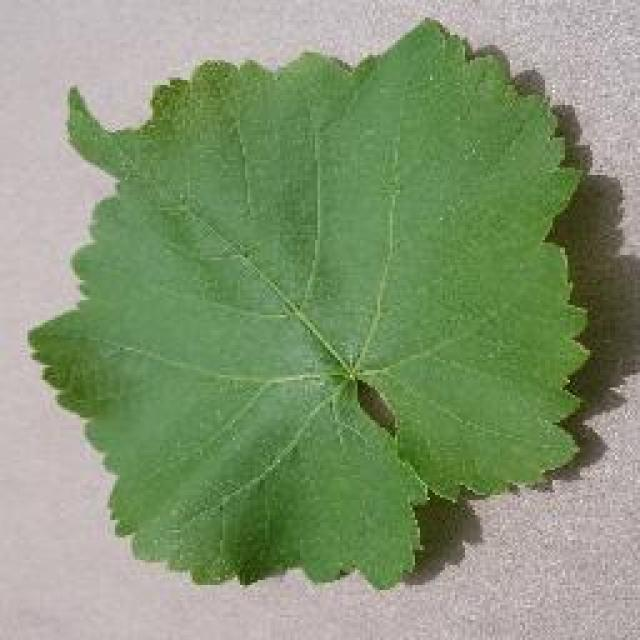Grape___healthy: (30, 20, 585, 585)
